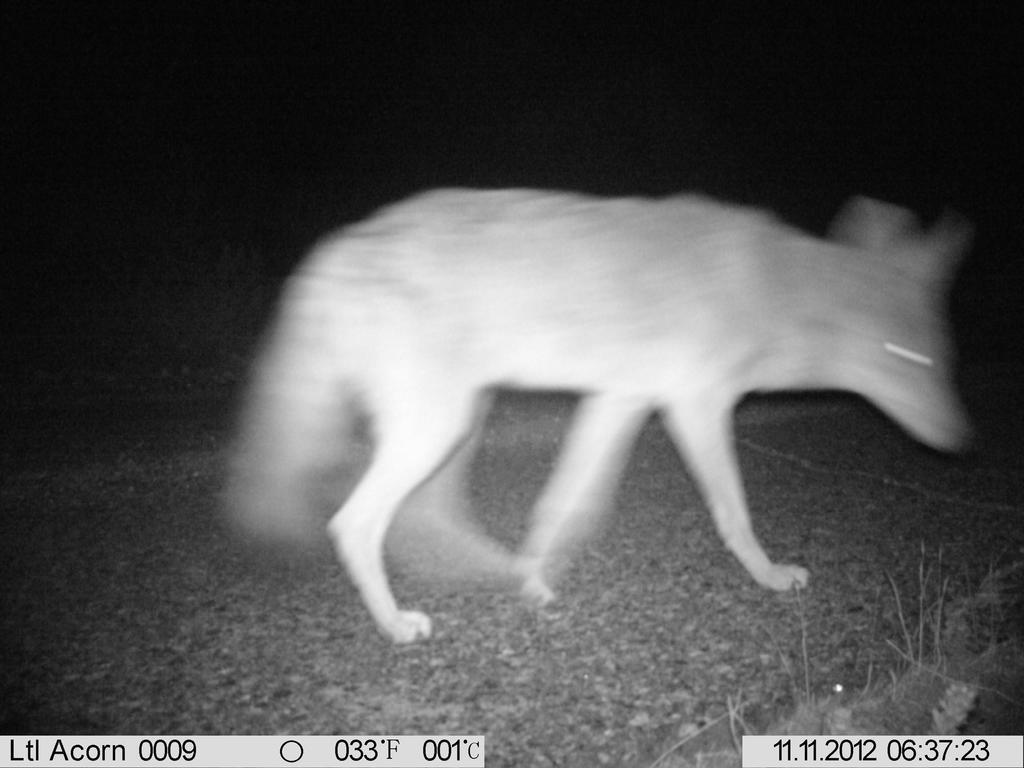coyote: (199, 185, 994, 651)
